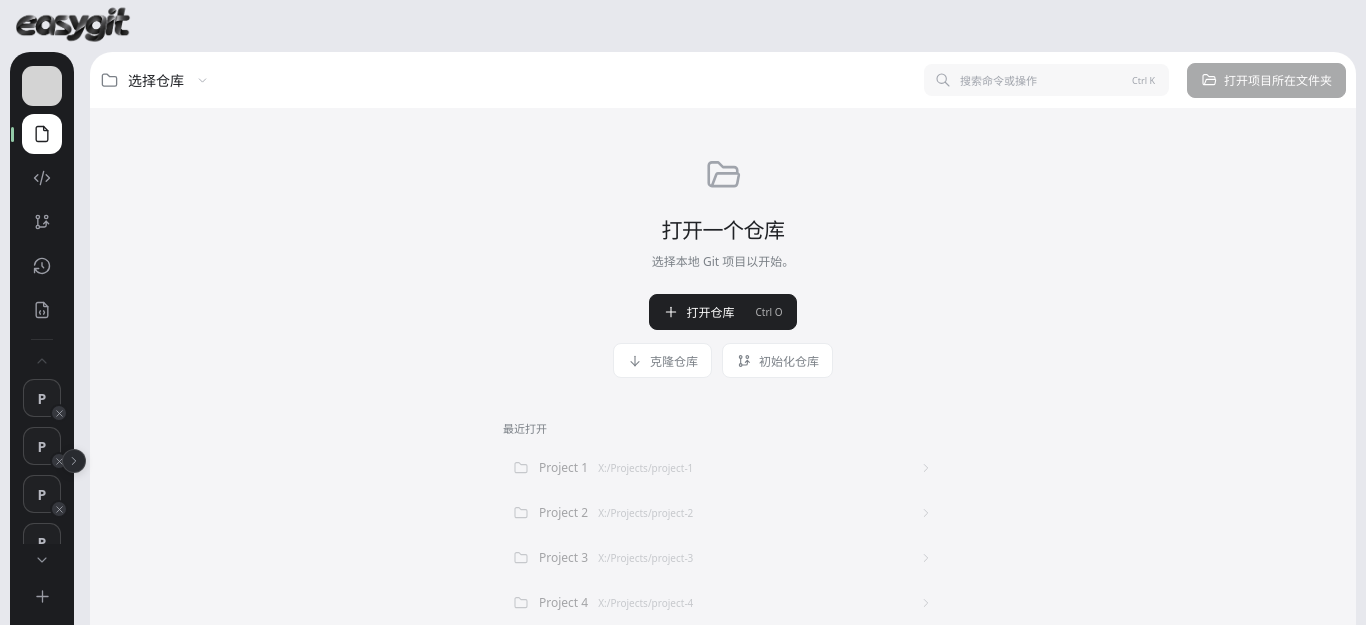
Test: 侧栏项目展开区域 › 可从展开区切换项目，选中状态同步且打开项目后保留超过 8 个项目记录
The width and height of the screenshot is (1366, 625).
Click the button named "展开项目列表" at (74, 460), box x1=62 y1=448 x2=86 y2=472
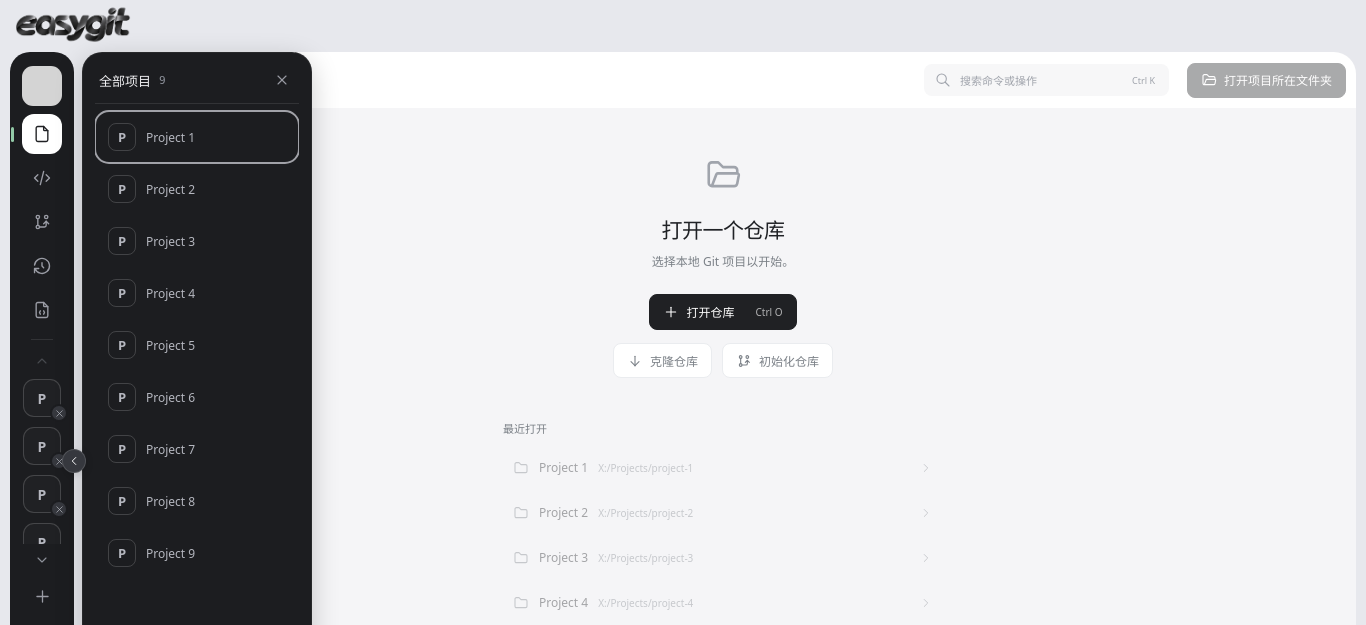
Click the button "P Project 9" at (197, 553), box x1=98 y1=530 x2=296 y2=576
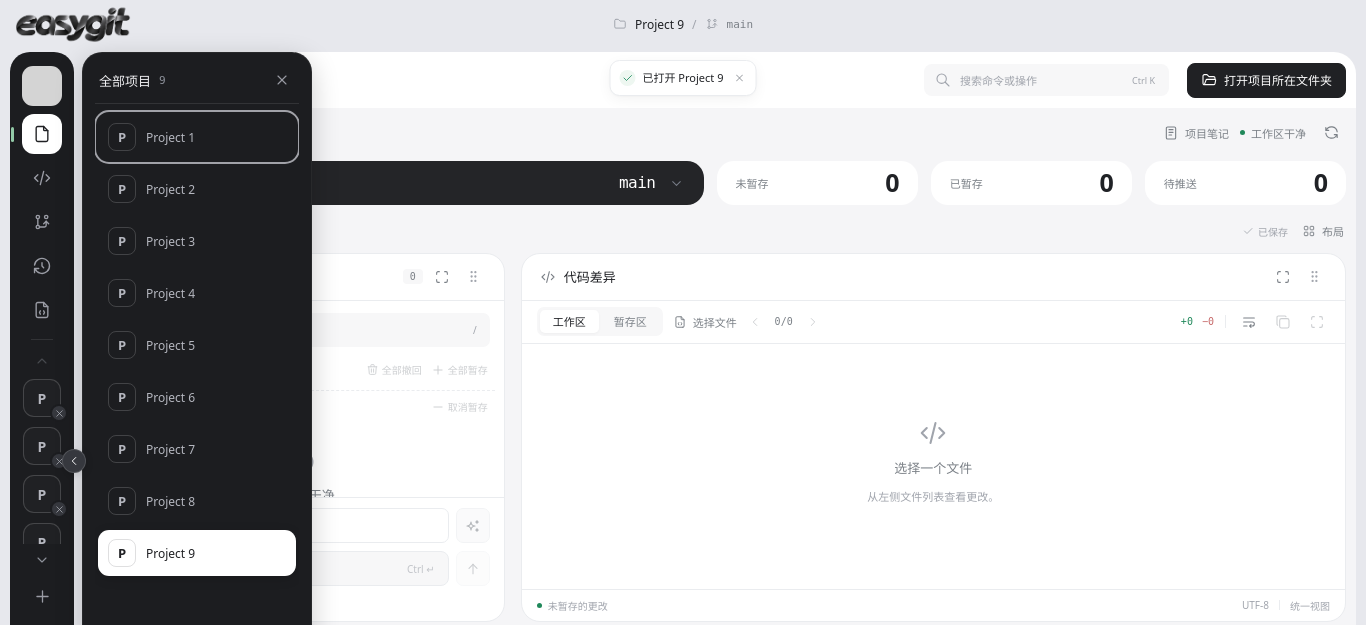
expect the element named "当前项目与分支" shows "Project 9": met, box x1=635 y1=16 x2=684 y2=32
